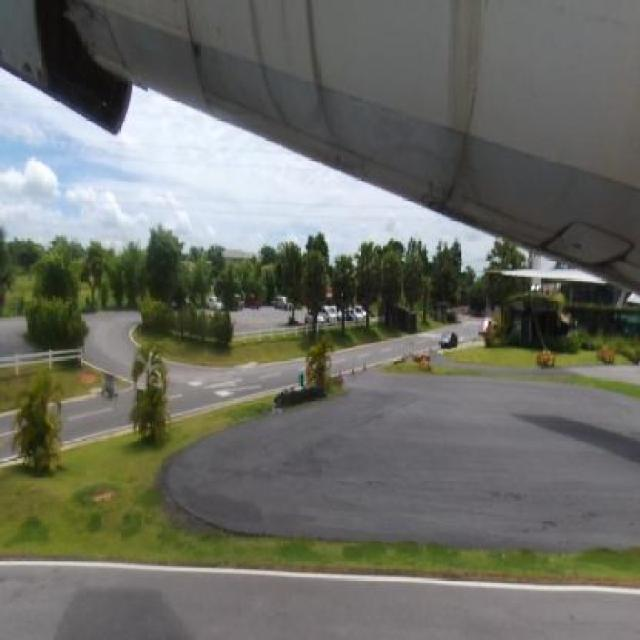Rust: (235, 1, 351, 153), (431, 0, 505, 232), (184, 9, 222, 116), (72, 0, 124, 72), (526, 220, 580, 258), (587, 232, 638, 265), (14, 56, 46, 86)
